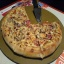pizza: (1, 5, 62, 58)
